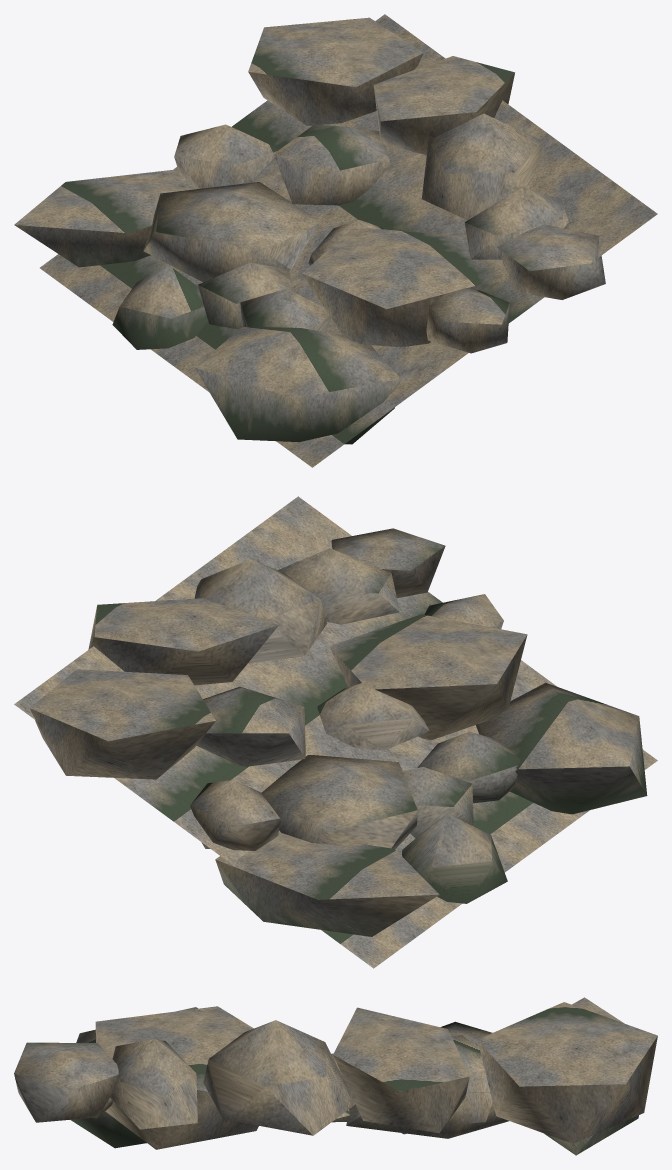
The model's file is SM_Molo_Scogliera_B_v2_LOD1.fbx.
3 views of the same model, one above another, from view 1: azimuth 30°, elevation 25°; view 2: azimuth 150°, elevation 25°; view 3: azimuth 270°, elevation 25° (orthographic). The views are drawn at different scales.
Visible parts, largest first — view 1: SM_Molo_Scogliera_B_v2_LOD1; view 2: SM_Molo_Scogliera_B_v2_LOD1; view 3: SM_Molo_Scogliera_B_v2_LOD1.
Boxes of the visible parts, left/top/right/bottom form: SM_Molo_Scogliera_B_v2_LOD1: left=14, top=14, right=657, bottom=467; SM_Molo_Scogliera_B_v2_LOD1: left=14, top=496, right=657, bottom=968; SM_Molo_Scogliera_B_v2_LOD1: left=14, top=997, right=657, bottom=1155.
Bounding box in the file's own units: 719 × 901 × 345.
1 material, 1 textured.
